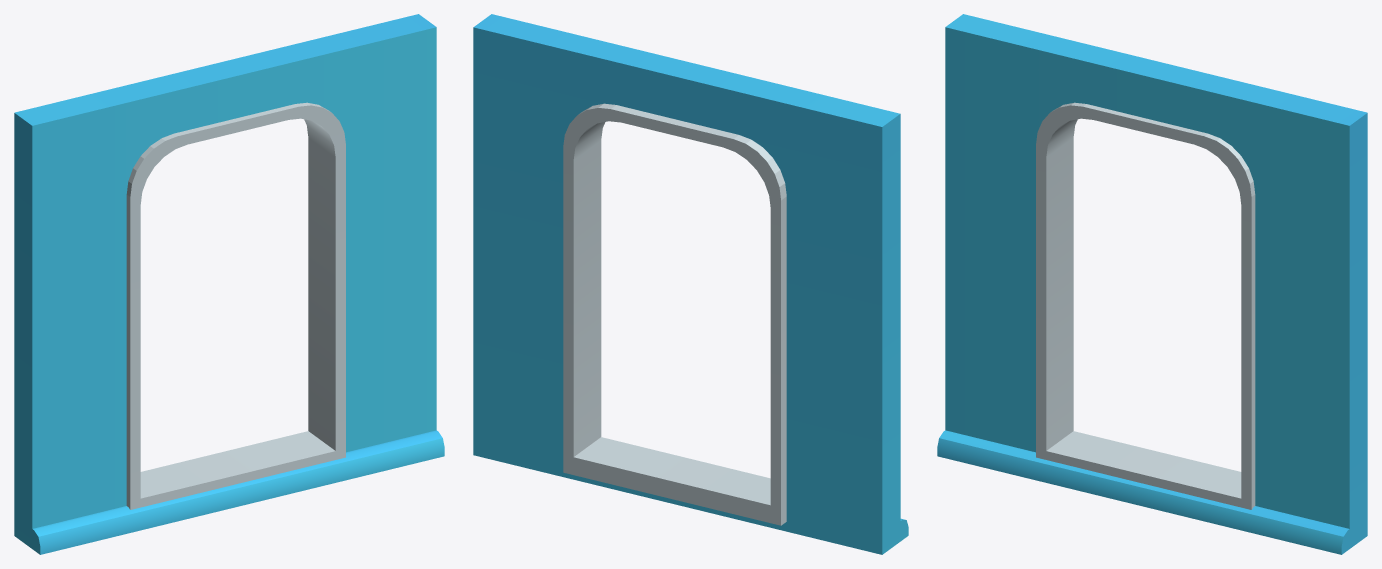
Rendered from DoorWall003.fbx.
The picture shows the model from 3 angles, left to right: view 1: azimuth 30°, elevation 25°; view 2: azimuth 150°, elevation 25°; view 3: azimuth 330°, elevation 25°; orthographic projection.
Visible parts, largest first — view 1: DoorWall003; view 2: DoorWall003; view 3: DoorWall003.
Boxes of the visible parts, left/top/right/bottom form: DoorWall003: left=14, top=14, right=444, bottom=554; DoorWall003: left=473, top=14, right=908, bottom=554; DoorWall003: left=937, top=14, right=1367, bottom=554.
Bounding box in the file's own units: 250 × 250 × 33.87.
